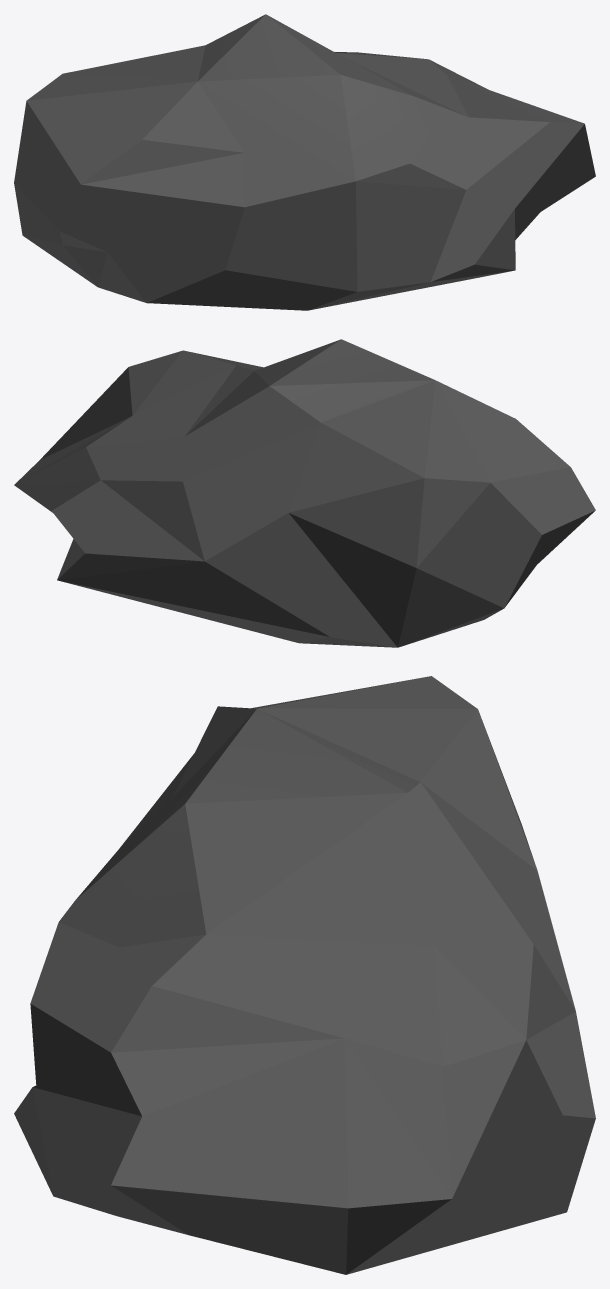
Rendered from stone_2.fbx.
3 views of the same model, one above another, from view 1: azimuth 30°, elevation 25°; view 2: azimuth 150°, elevation 25°; view 3: azimuth 270°, elevation 25° (orthographic). The views are drawn at different scales.
Visible parts, largest first — view 1: stone_2; view 2: stone_2; view 3: stone_2.
Part boxes in pixels (bbox=[...]): stone_2: bbox=[14, 14, 595, 310]; stone_2: bbox=[14, 339, 595, 647]; stone_2: bbox=[14, 676, 595, 1274].
Bounding box in the file's own units: 166 × 71.74 × 106.
